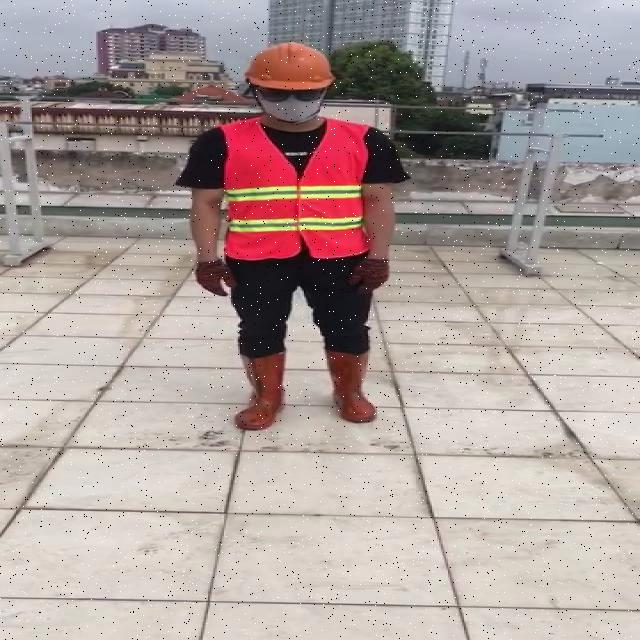Hard_hat: (238, 39, 340, 98)
Vest: (217, 118, 370, 263)
